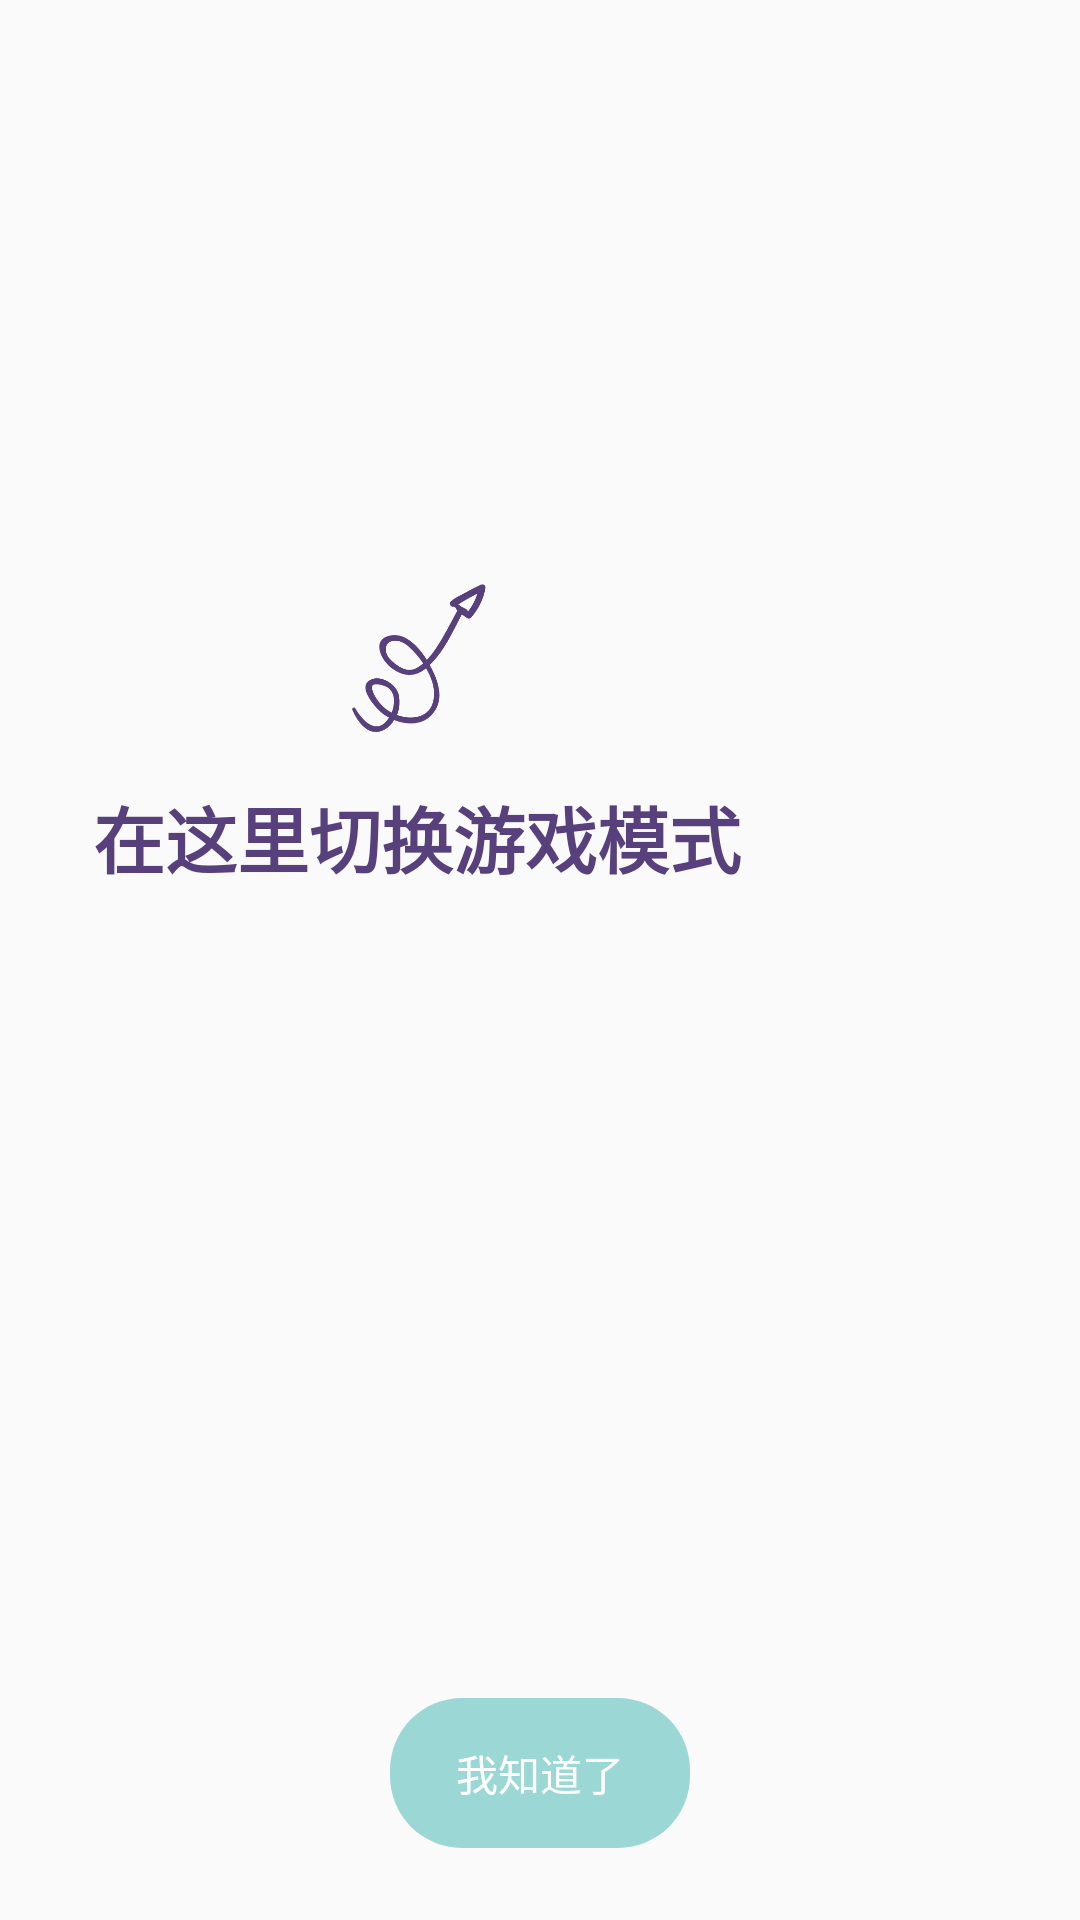

Named icons in this screenshot (1080px x 1920px) and their centers, [x,y]:
arrow: [419,658]
